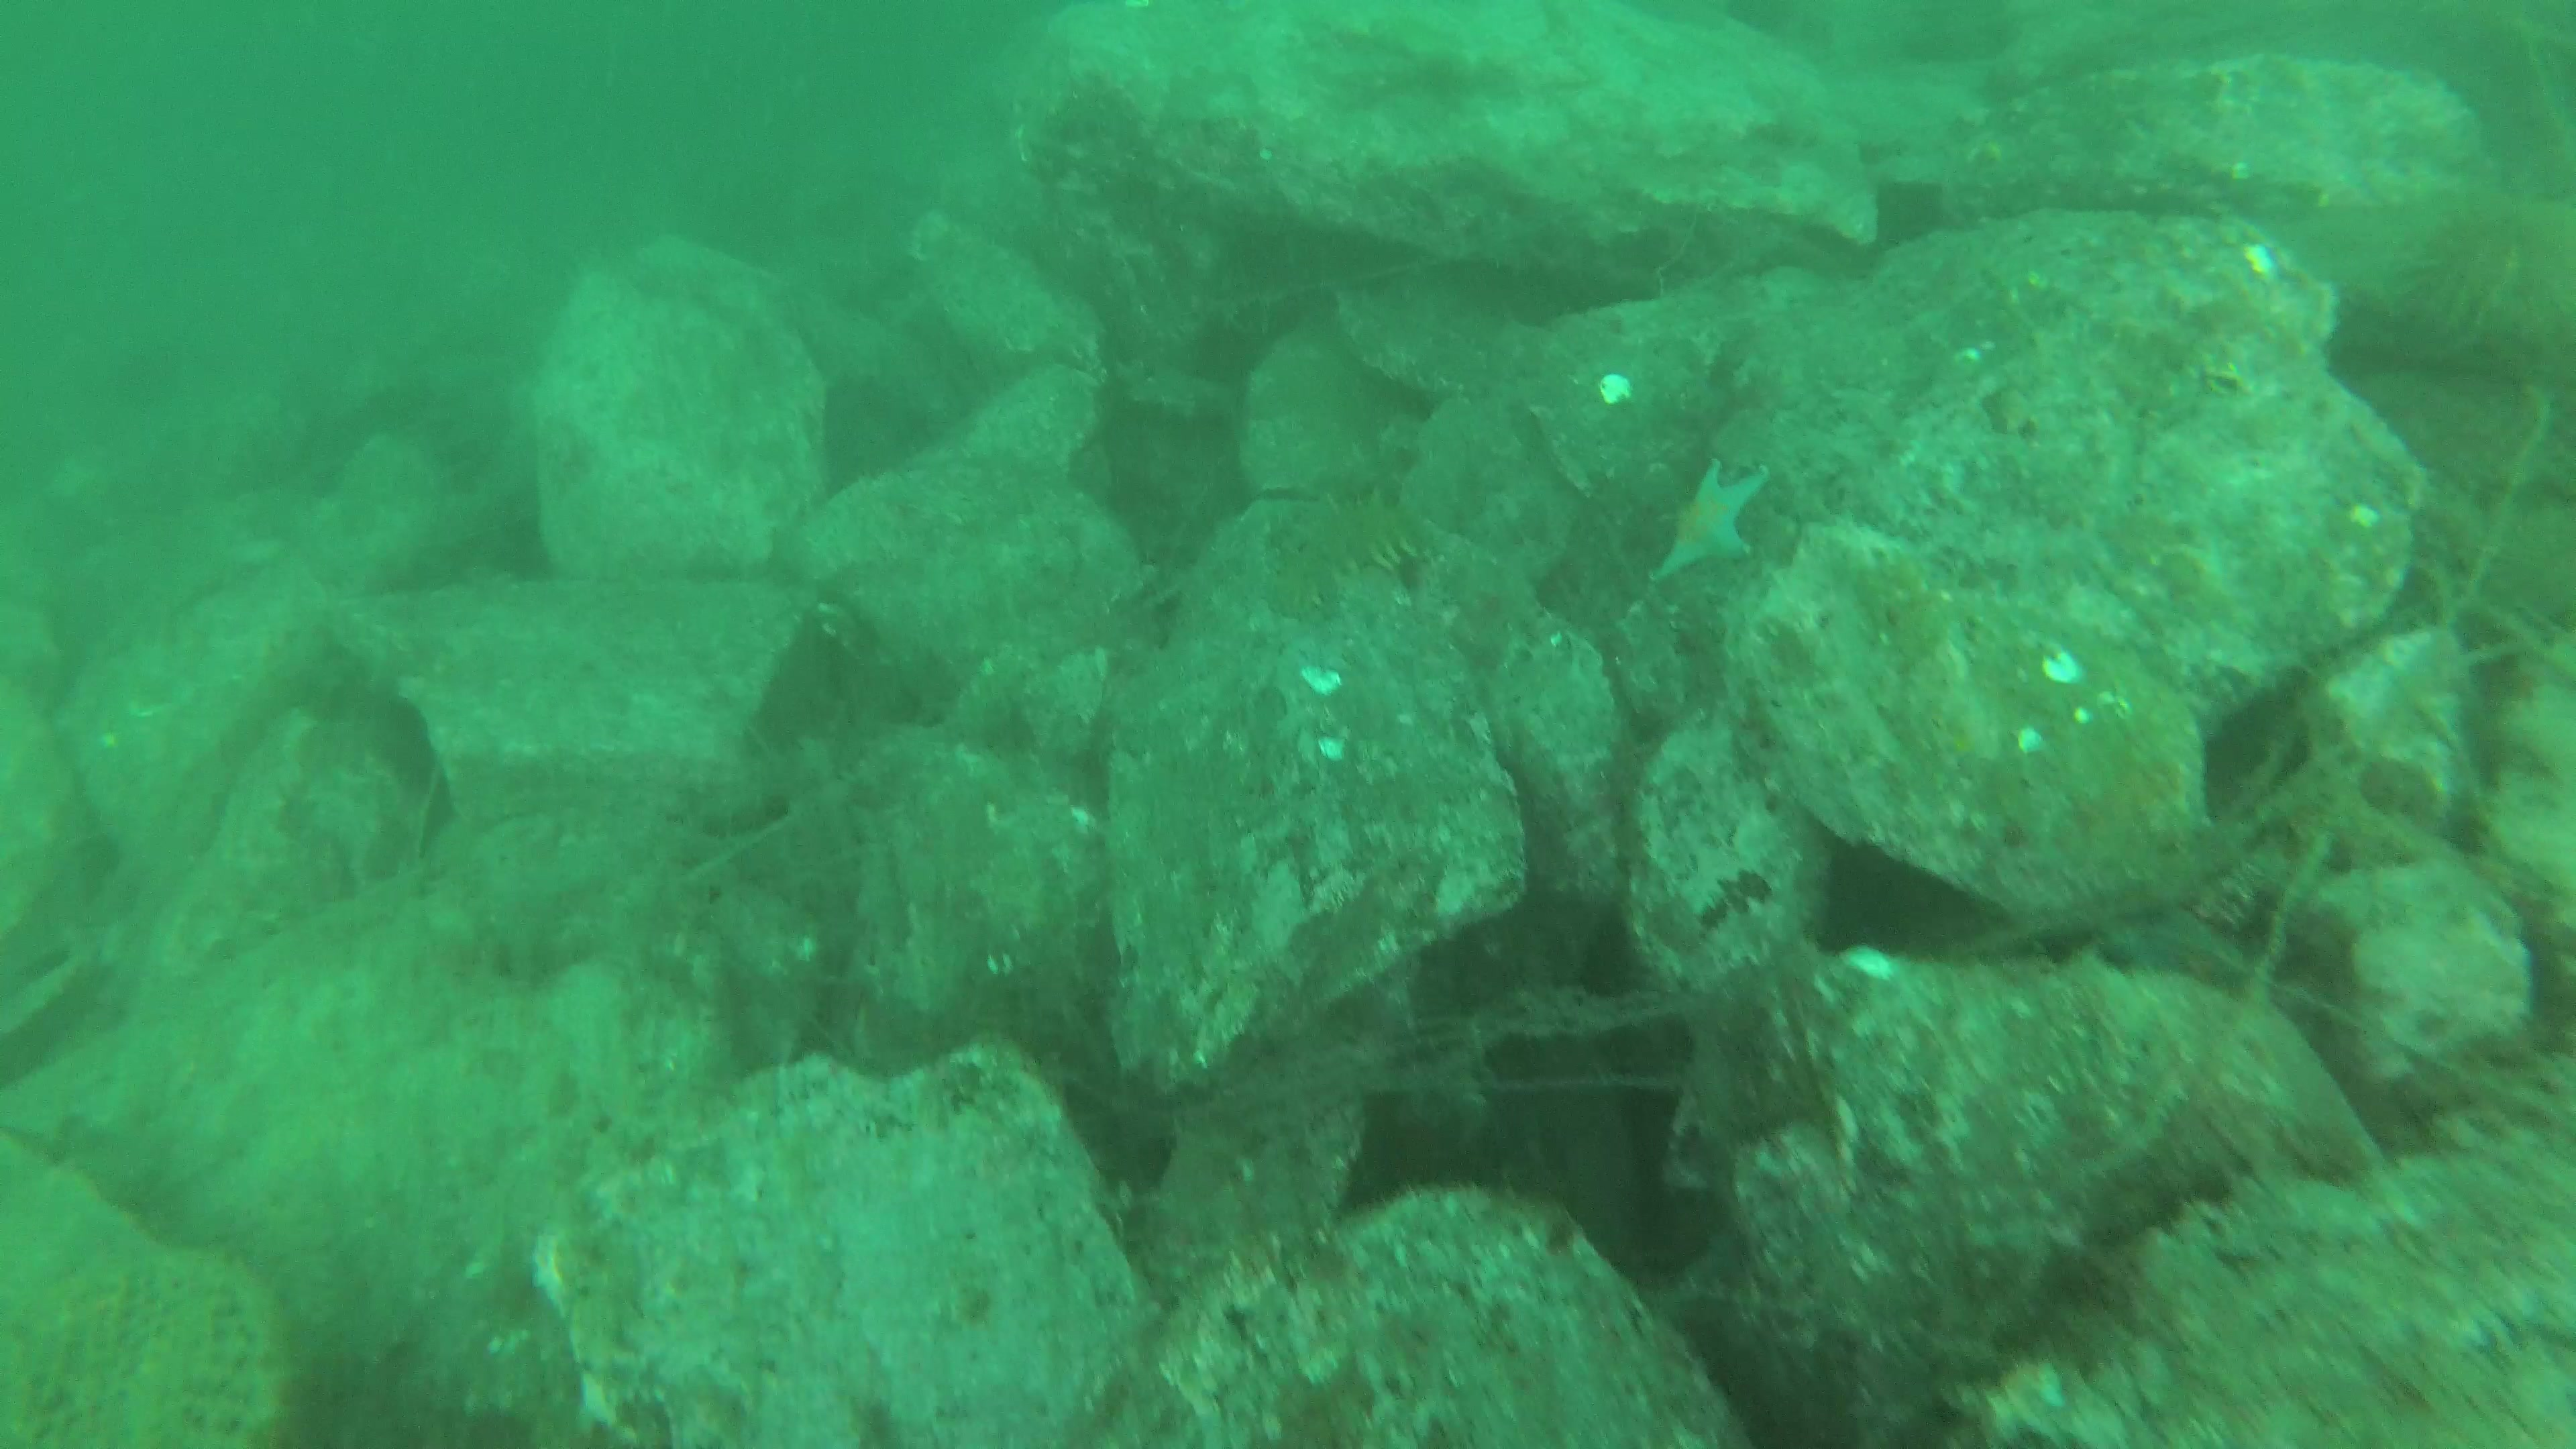holothurian: (1260, 485, 1417, 625)
starfish: (1647, 465, 1771, 582)
